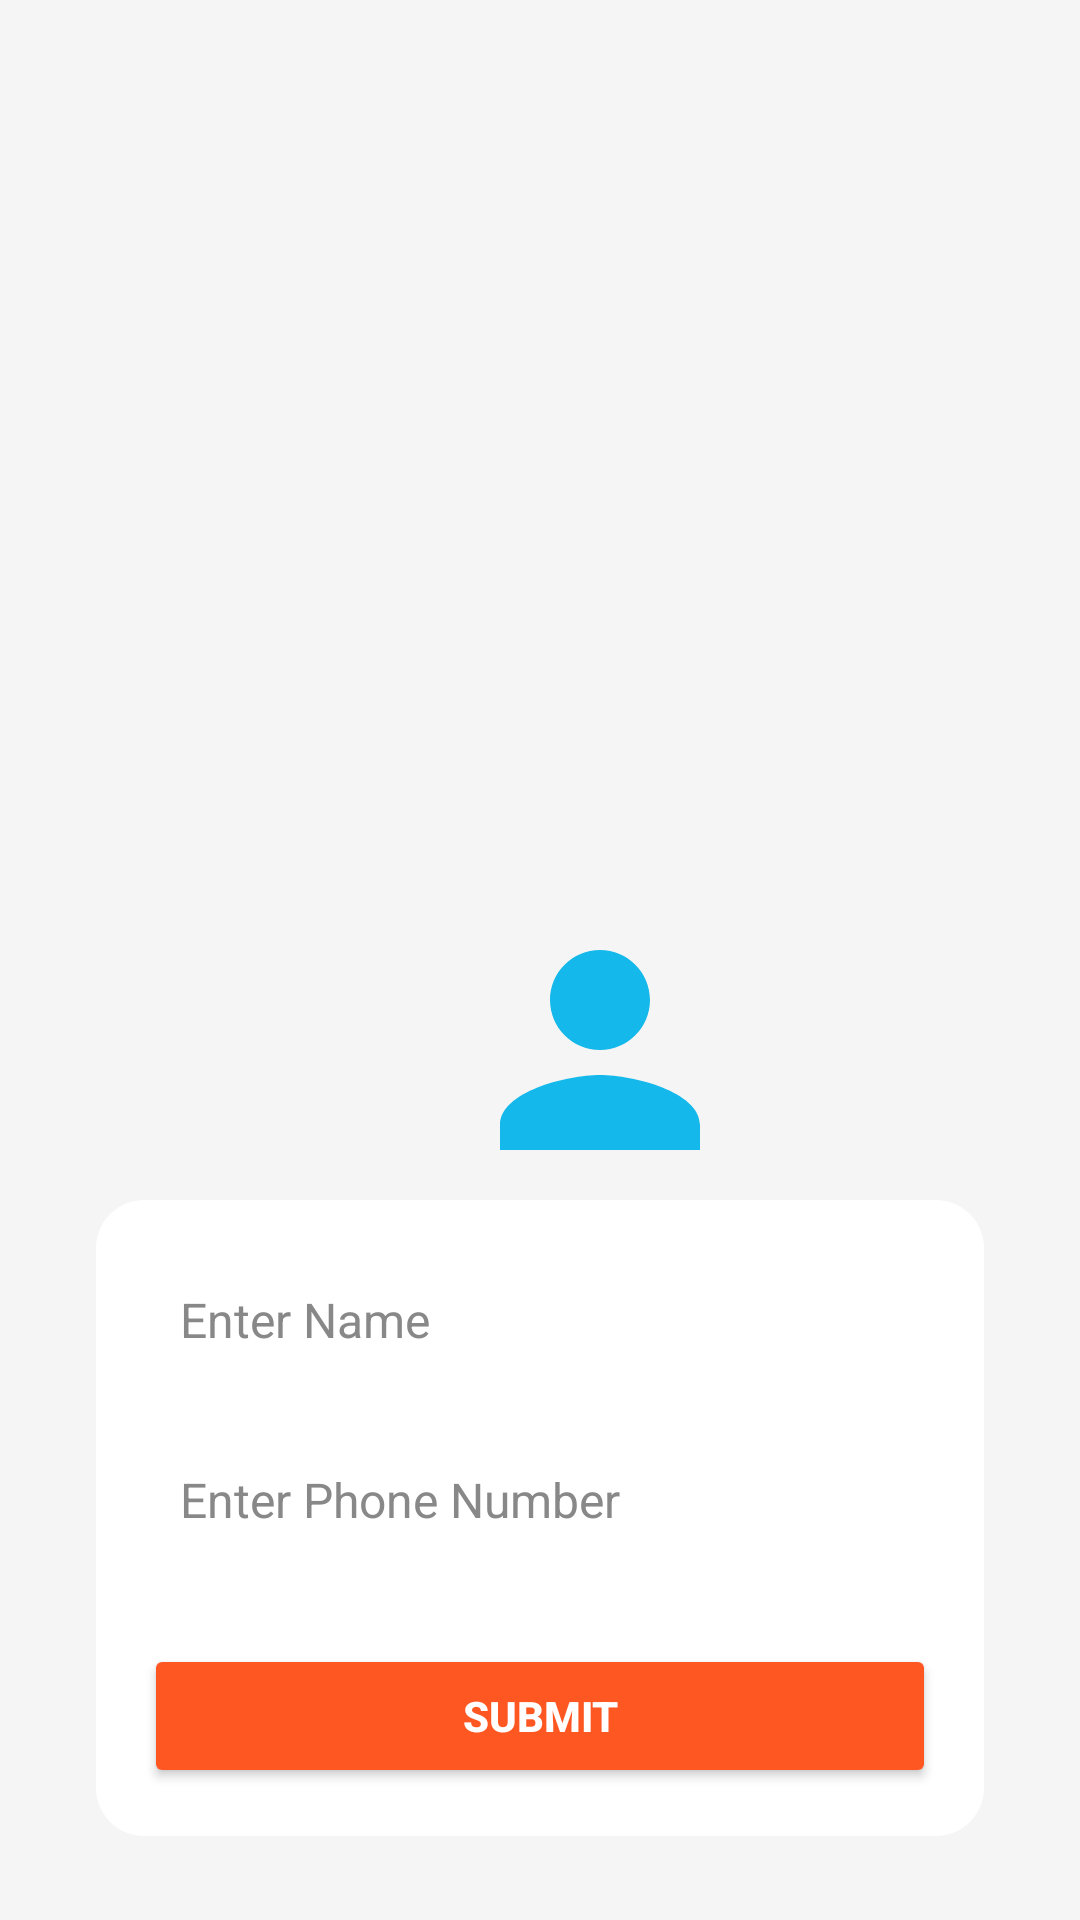

Named icons in this screenshot (1080 × 1920) and their centers, (x,y):
person: (600,1050)
